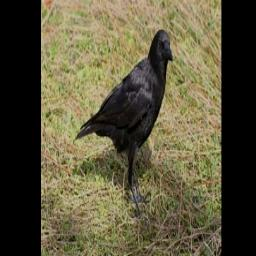Crow: (73, 28, 171, 220)
